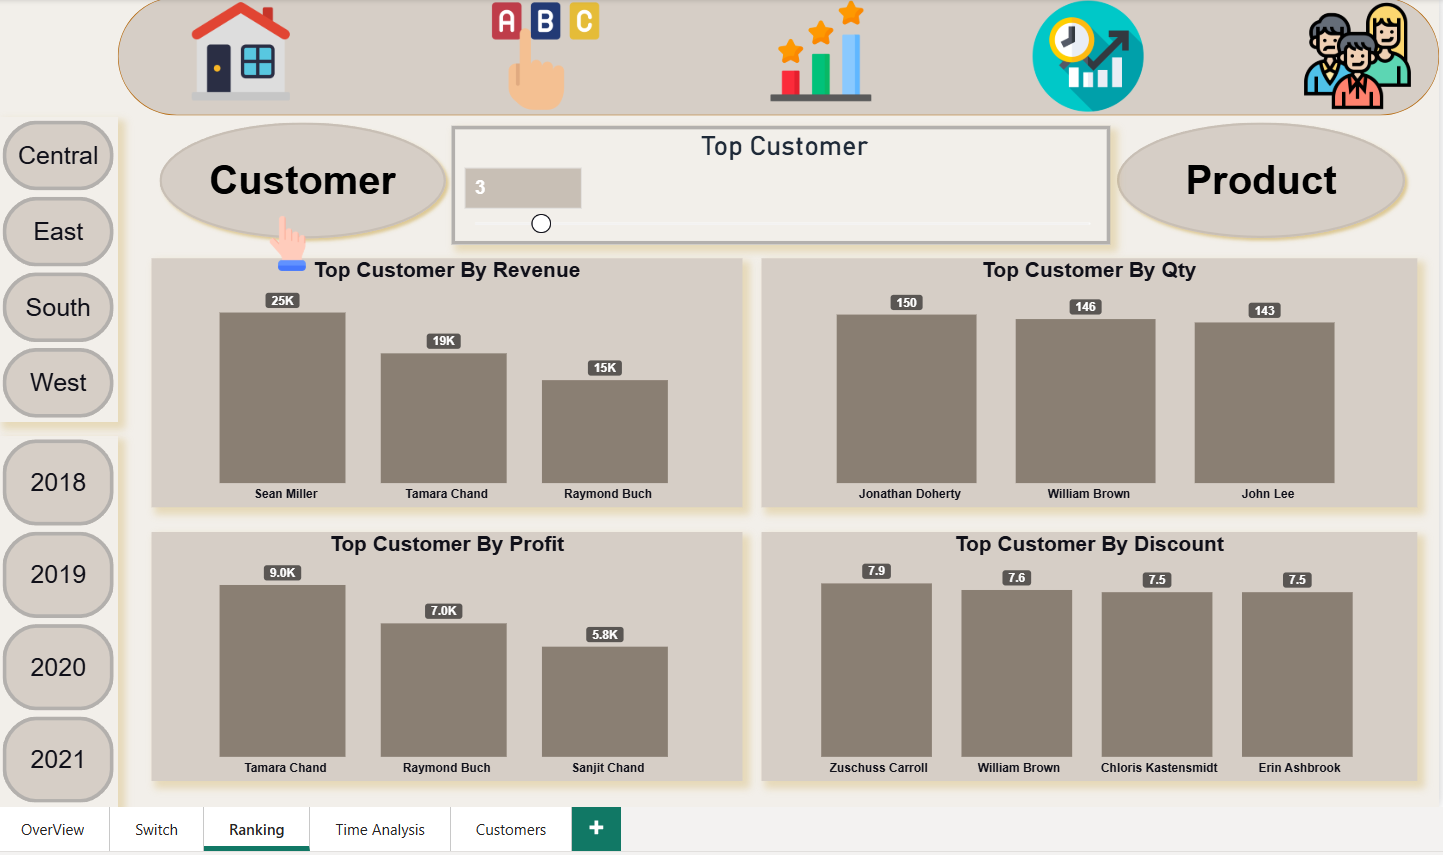

The page's visual inventory and layout, read from the dashboard file:
{"tool":"powerbi","page":{"name":"Ranking","canvas":[1920,1080],"ordinal":2},"visuals":[{"type":"shape","box":[158,0,1762,158],"z":0},{"type":"actionButton","title":"Button_Customer","box":[204.6,157.7,399.8,172.7],"z":2000},{"type":"actionButton","title":"Button_Product","box":[1482,158,402,172],"z":3000},{"type":"slicer","title":"Top Customer","fields":{"Values":["Customer_Parameter.Customer_Parameter"]},"box":[604,172,878,158],"z":8000},{"type":"clusteredColumnChart","title":"Top Customer By Revenue","fields":{"Y":["Dax.Ranking _Customer_Rev"],"Category":["Dim_Customer.Customer Name"]},"box":[204,348,788,332],"z":9000},{"type":"clusteredColumnChart","title":"Top Customer By Profit","fields":{"Category":["Dim_Customer.Customer Name"],"Y":["Dax.Ranking _Customer_profit"]},"box":[204,714,788,332],"z":10000},{"type":"clusteredColumnChart","title":"Top Customer By Qty","fields":{"Y":["Dax.Ranking _Customer_qty"],"Category":["Dim_Customer.Customer Name"]},"box":[1016,348,874,332],"z":11000},{"type":"clusteredColumnChart","title":"Top Customer By Discount","fields":{"Category":["Dim_Customer.Customer Name"],"Y":["Dax.Ranking _Customer_discount"]},"box":[1016,714,874,332],"z":12000},{"type":"image","title":"Image_profit_Customer","box":[335,243.3,100,170],"z":13000},{"type":"image","box":[230.7,0,184.2,144.8],"z":15000},{"type":"image","box":[650,0,158,158],"z":16000},{"type":"image","box":[1734,0,156,158],"z":17000},{"type":"image","box":[1016,0,158,144],"z":18000},{"type":"image","box":[1374,0,158,158],"z":19000},{"type":"advancedSlicerVisual","fields":{"Values":["Dim_Customer.Region"]},"box":[0,160,158.3,406.7],"z":20000},{"type":"advancedSlicerVisual","fields":{"Values":["Calendar_Table.Year"]},"box":[0,585.7,158.6,494.3],"z":21000}]}

Visuals, with their boxes on the page's 1920x1080 design canvas (x1, y1, x2, y2). These are canvas units, not pixel positions in the 1443x855 screenshot, which may show the page scaled, cropped or inside an application window:
shape: rect(158, 0, 1920, 158)
"Button_Customer" actionButton: rect(205, 158, 604, 330)
"Button_Product" actionButton: rect(1482, 158, 1884, 330)
"Top Customer" slicer: rect(604, 172, 1482, 330)
"Top Customer By Revenue" clusteredColumnChart: rect(204, 348, 992, 680)
"Top Customer By Profit" clusteredColumnChart: rect(204, 714, 992, 1046)
"Top Customer By Qty" clusteredColumnChart: rect(1016, 348, 1890, 680)
"Top Customer By Discount" clusteredColumnChart: rect(1016, 714, 1890, 1046)
"Image_profit_Customer" image: rect(335, 243, 435, 413)
image: rect(231, 0, 415, 145)
image: rect(650, 0, 808, 158)
image: rect(1734, 0, 1890, 158)
image: rect(1016, 0, 1174, 144)
image: rect(1374, 0, 1532, 158)
advancedSlicerVisual - Dim_Customer.Region: rect(0, 160, 158, 567)
advancedSlicerVisual - Calendar_Table.Year: rect(0, 586, 159, 1080)
